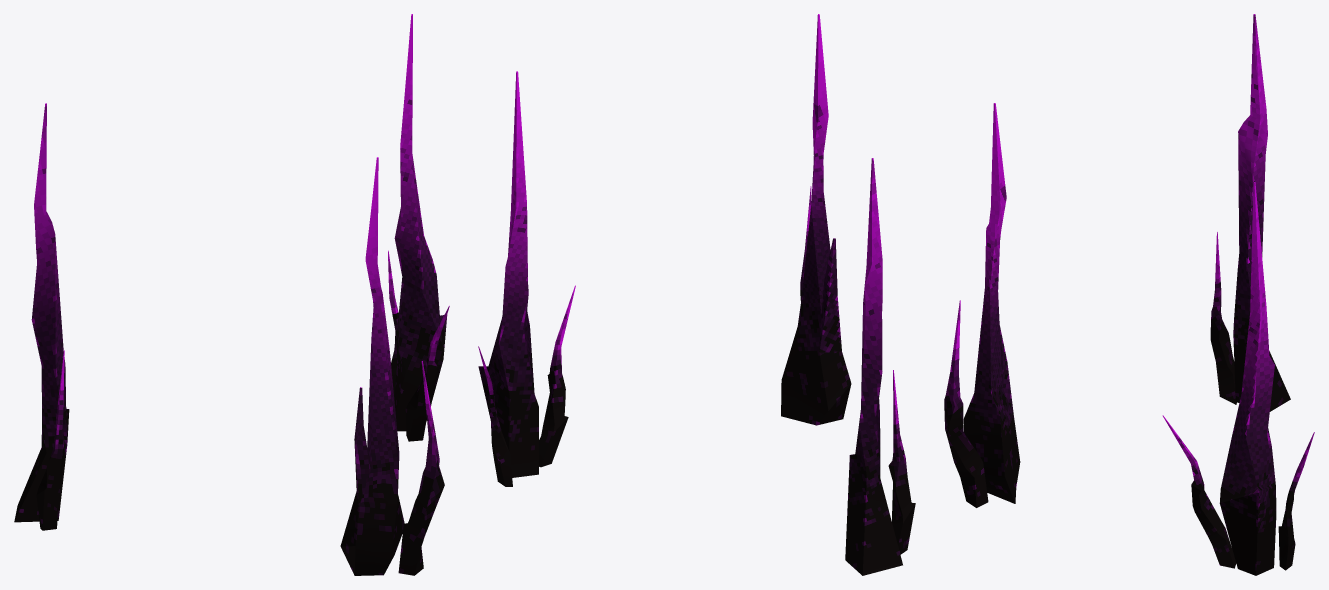
The model's file is piques.fbx.
3 renders of one model, left to right at view 1: azimuth 30°, elevation 25°; view 2: azimuth 150°, elevation 25°; view 3: azimuth 270°, elevation 25°, orthographic. The views are drawn at different scales.
Visible parts, largest first — view 1: Cube.019, Cube.010, Cube.017, Cube.020, Cube.018, Cube.015, Cube.016; view 2: Cube.019, Cube.017, Cube.010, Cube.015, Cube.018, Cube.016; view 3: Cube.010, Cube.019, Cube.017, Cube.020, Cube.015, Cube.018, Cube.016.
Part boxes in pixels (left/top/right/bottom): Cube.019: left=340, top=157, right=404, bottom=575; Cube.010: left=394, top=14, right=447, bottom=431; Cube.017: left=14, top=103, right=69, bottom=522; Cube.020: left=398, top=361, right=444, bottom=575; Cube.018: left=36, top=350, right=66, bottom=530; Cube.015: left=405, top=305, right=449, bottom=441; Cube.016: left=388, top=250, right=398, bottom=398; Cube.019: left=781, top=14, right=851, bottom=425; Cube.017: left=845, top=158, right=902, bottom=575; Cube.010: left=478, top=71, right=538, bottom=477; Cube.015: left=539, top=285, right=575, bottom=467; Cube.018: left=888, top=370, right=915, bottom=554; Cube.016: left=478, top=346, right=512, bottom=486; Cube.010: left=1219, top=182, right=1276, bottom=575; Cube.019: left=963, top=103, right=1020, bottom=503; Cube.017: left=1233, top=14, right=1290, bottom=411; Cube.020: left=944, top=300, right=988, bottom=507; Cube.015: left=1162, top=415, right=1236, bottom=568; Cube.018: left=1210, top=232, right=1236, bottom=404; Cube.016: left=1278, top=432, right=1314, bottom=570.
Size of the model in its own units: 33.09 by 30.16 by 25.94.
Materials: 1 (1 with a texture image).
